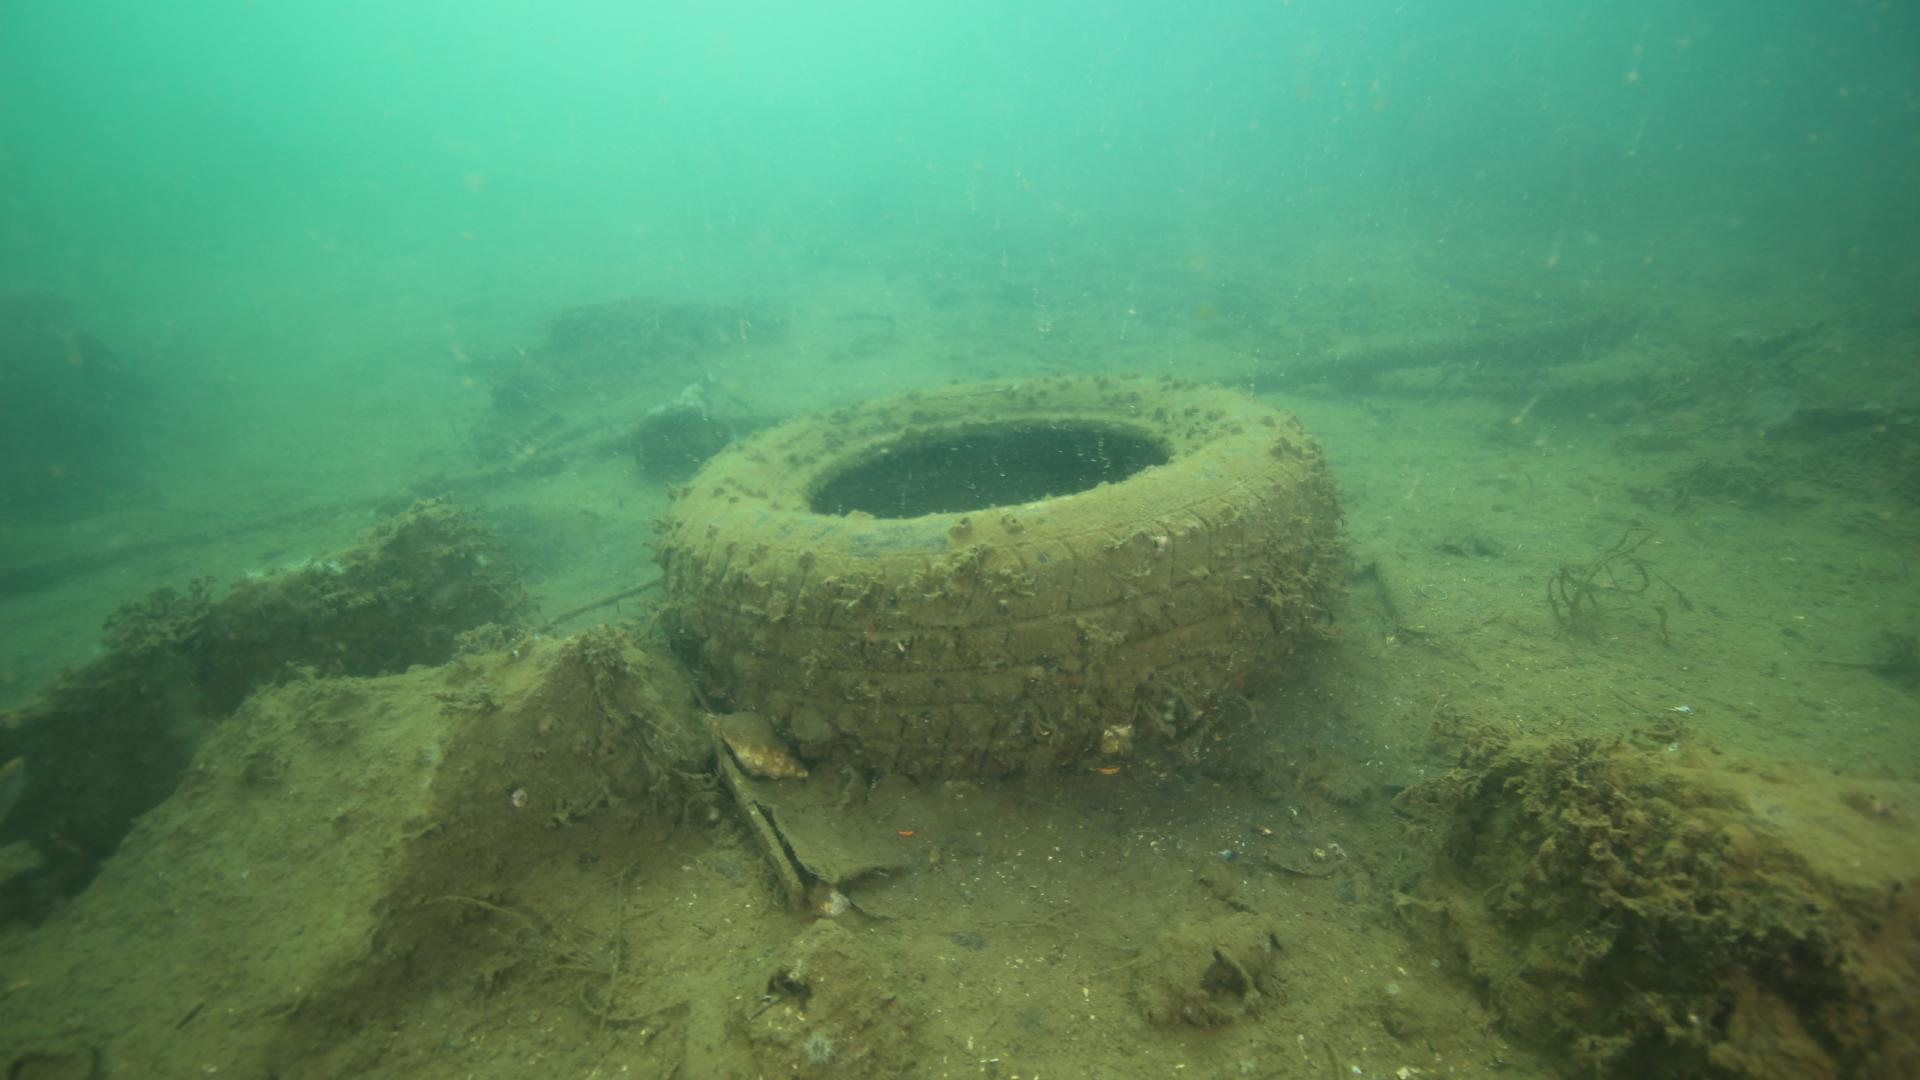tire: (657, 372, 1317, 777)
